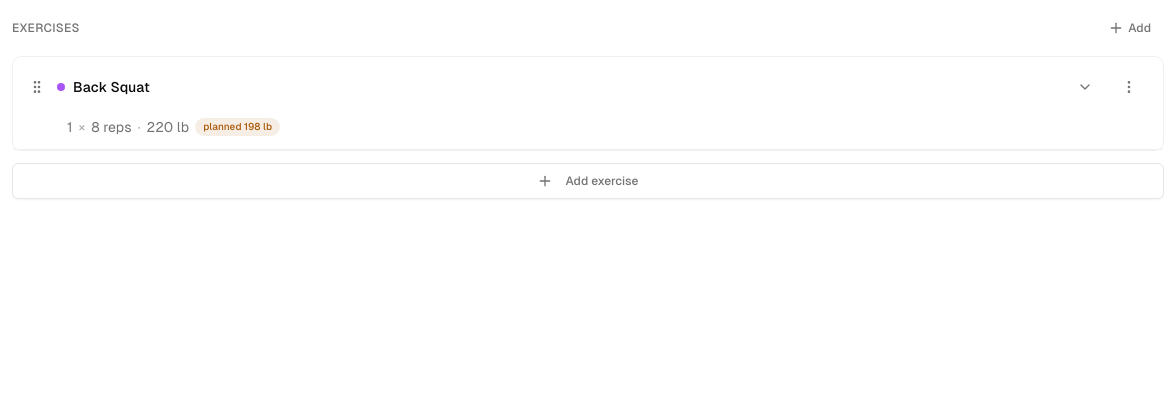
Scenario: ExerciseTable unit stamps (finding D2) › shows a kg-stamped row in pounds to a lb athlete: summary, planned diff and editor
Expected: the text with test id "exercise-row-planned-diff" reads "planned 198 lb", [203, 121, 272, 132]
Click the button with aria-label "Edit Back Squat".
click(111, 127)  # box [13, 117, 1163, 149]
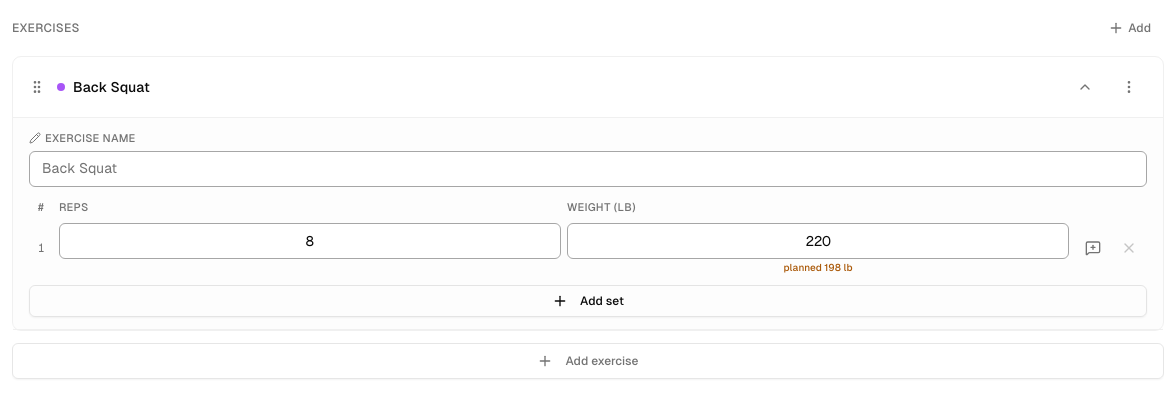
Expected: the text with test id "planned-weight-kg-row" reads "planned 198 lb", [784, 262, 852, 273]
Expected: the field with test id "input-weight-kg-row" holds "220", [567, 223, 1069, 259]
